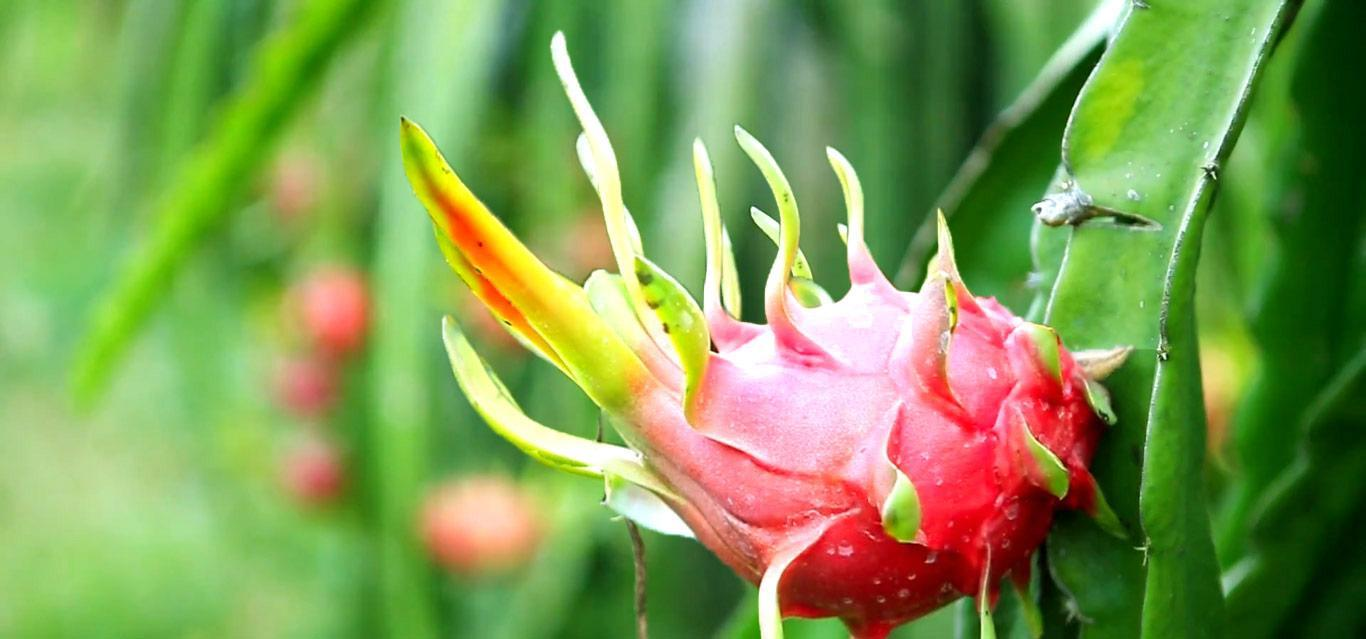dragon-fruit: (663, 288, 1110, 632)
